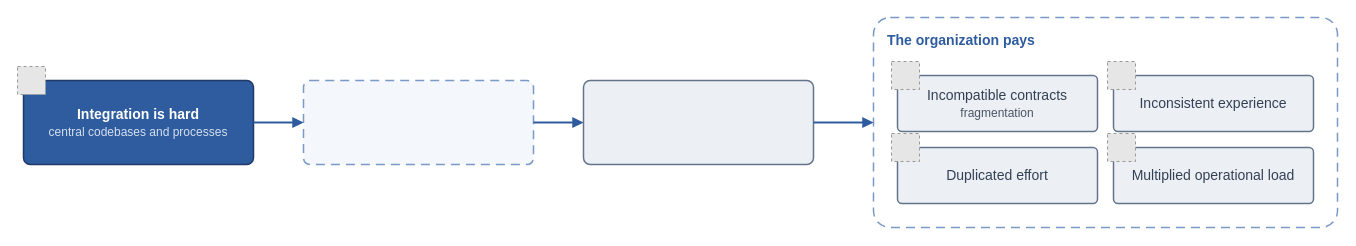
The diagram is 1356 pixels wide and 246 high, and some of its shapes have lost their labels. Grey dashed boxes stand in for pictures. The centre of each missing label's shape, as x and y in pixels:
"Platform loses the contribution the best implementation stays out" goes at [698,122].
"Specialists stop contributing build outside, or reinvent in their domain" goes at [418,122].
